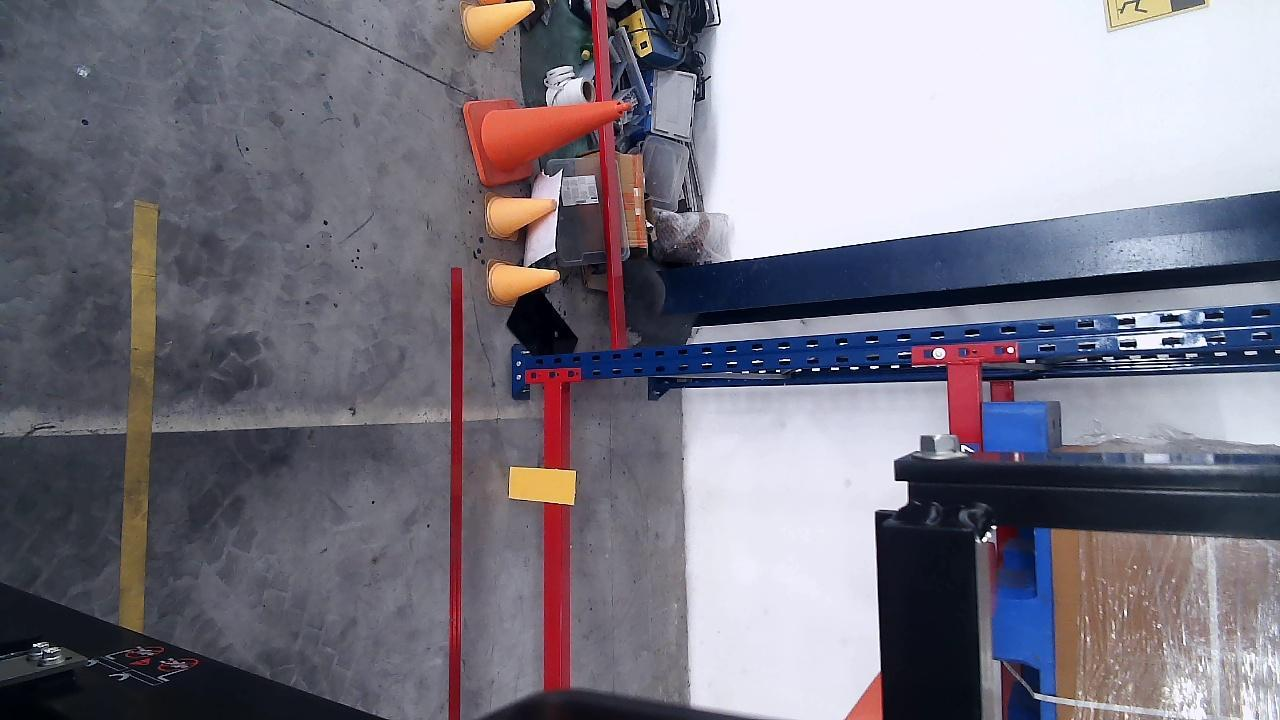h_rack: (543, 381, 570, 690)
orange_strip: (511, 468, 575, 505)
red_line: (449, 264, 465, 718)
small_pallet: (992, 409, 1054, 717)
yellow_line: (122, 200, 159, 632)
